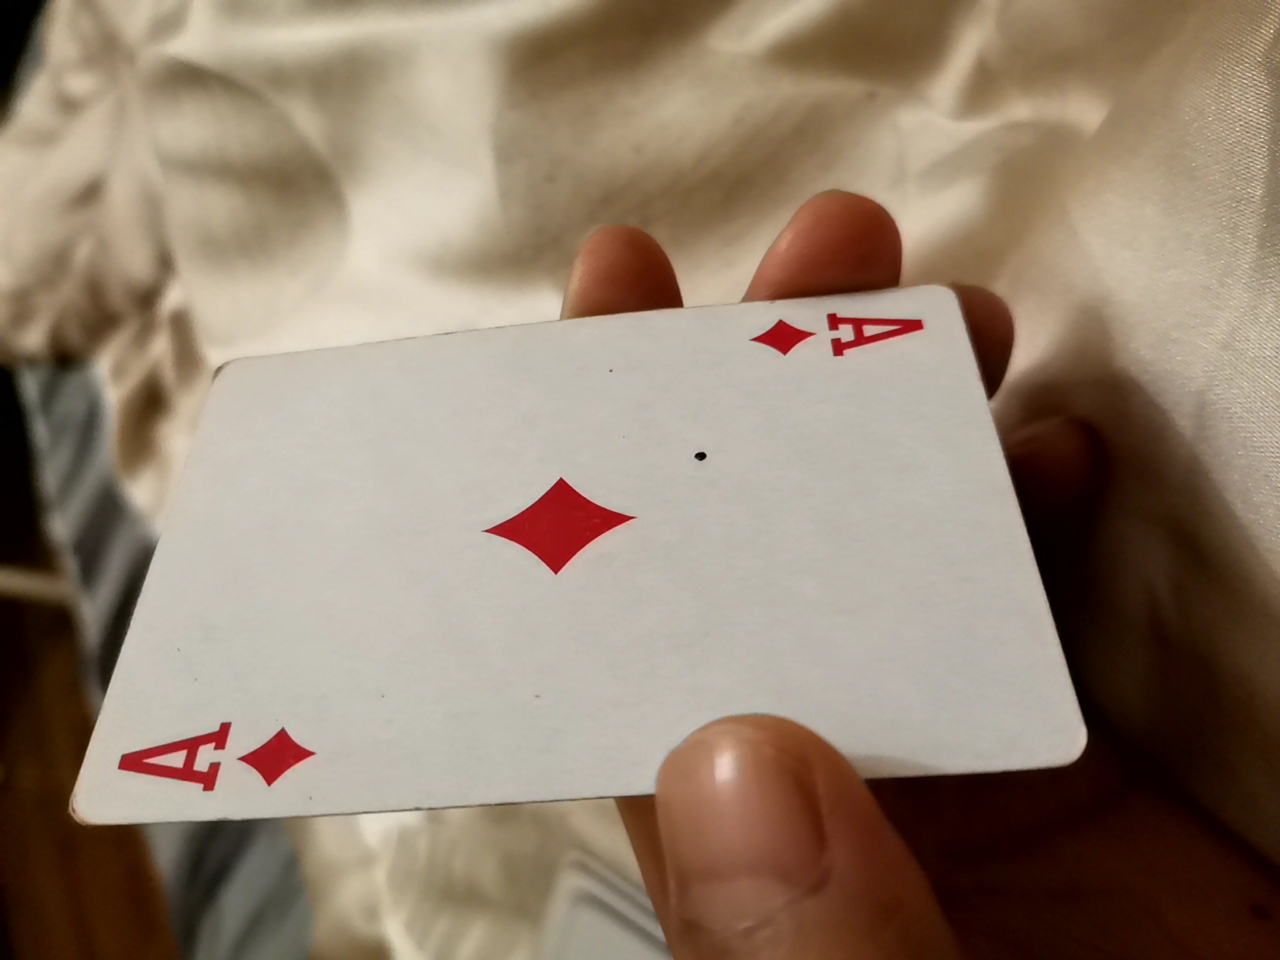fk a: (59, 291, 1091, 848)
